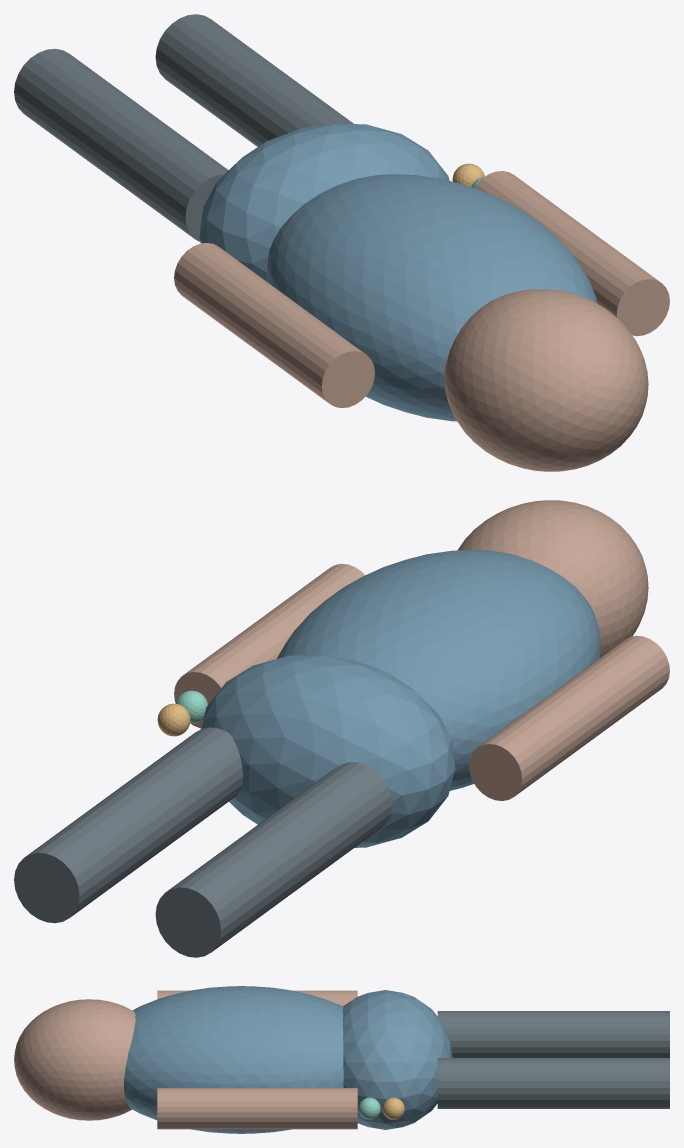
File: patient-vitals-high.glb
The picture shows the model from 3 angles, top to bottom: view 1: azimuth 30°, elevation 25°; view 2: azimuth 150°, elevation 25°; view 3: azimuth 270°, elevation 25°; orthographic projection. The views are drawn at different scales.
Visible parts, largest first — view 1: torso, head, left_leg, pelvis, left_arm, right_leg, right_arm; view 2: torso, pelvis, left_leg, right_leg, left_arm, head, right_arm, spo2_site_right_hand, pulse_site_right_wrist; view 3: torso, right_leg, head, pelvis, left_leg, right_arm, left_arm, pulse_site_right_wrist, spo2_site_right_hand.
Boxes of the visible parts, x1,y1,x2,y2 form: torso: (267,174,597,421); head: (444,289,648,471); left_leg: (14,48,228,242); pelvis: (199,123,449,281); left_arm: (174,243,374,408); right_leg: (155,14,353,146); right_arm: (474,171,669,336); torso: (277,550,600,790); pelvis: (201,655,455,847); left_leg: (155,762,392,957); right_leg: (14,727,243,923); left_arm: (469,635,669,800); head: (458,500,648,657); right_arm: (174,563,364,728); spo2_site_right_hand: (157,703,190,736); pulse_site_right_wrist: (175,690,207,723); torso: (124,986,343,1133); right_leg: (437,1058,669,1108); head: (14,999,135,1120); pelvis: (342,990,452,1129); left_leg: (437,1011,669,1057); right_arm: (157,1088,357,1129); left_arm: (157,990,357,1006); pulse_site_right_wrist: (358,1097,380,1119); spo2_site_right_hand: (382,1097,404,1119).
Size of the model in its own units: 1.7 by 0.87 by 4.1.
